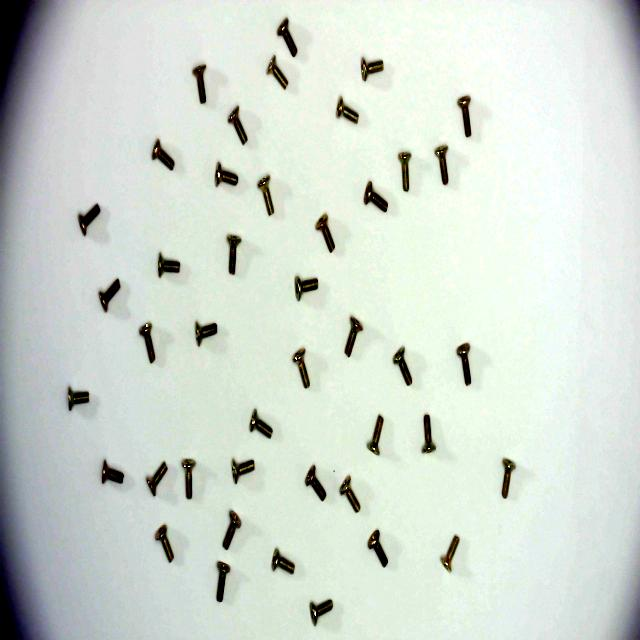Screws: (145, 128, 179, 179), (157, 243, 185, 288), (248, 400, 276, 441), (95, 274, 123, 314), (145, 455, 168, 503), (212, 153, 240, 192), (454, 347, 480, 389), (314, 210, 336, 258), (338, 473, 362, 516), (190, 58, 211, 107), (227, 226, 243, 290), (270, 547, 300, 581), (391, 344, 412, 392), (291, 342, 310, 395), (214, 557, 234, 607), (75, 200, 101, 238), (227, 100, 248, 147), (396, 144, 414, 198), (343, 308, 361, 361), (335, 94, 361, 130), (140, 317, 158, 369), (223, 508, 244, 552), (153, 520, 174, 563), (275, 17, 297, 58), (458, 94, 476, 144), (269, 54, 291, 94), (292, 270, 320, 300), (366, 526, 386, 568), (102, 455, 126, 490), (433, 141, 450, 190), (364, 181, 389, 213), (305, 461, 324, 503), (260, 175, 278, 219), (195, 314, 218, 348), (368, 415, 386, 458), (356, 56, 388, 80), (499, 454, 515, 502), (442, 532, 460, 574), (309, 597, 337, 624), (232, 455, 256, 486), (68, 384, 92, 414), (181, 454, 196, 499), (422, 409, 435, 454)
